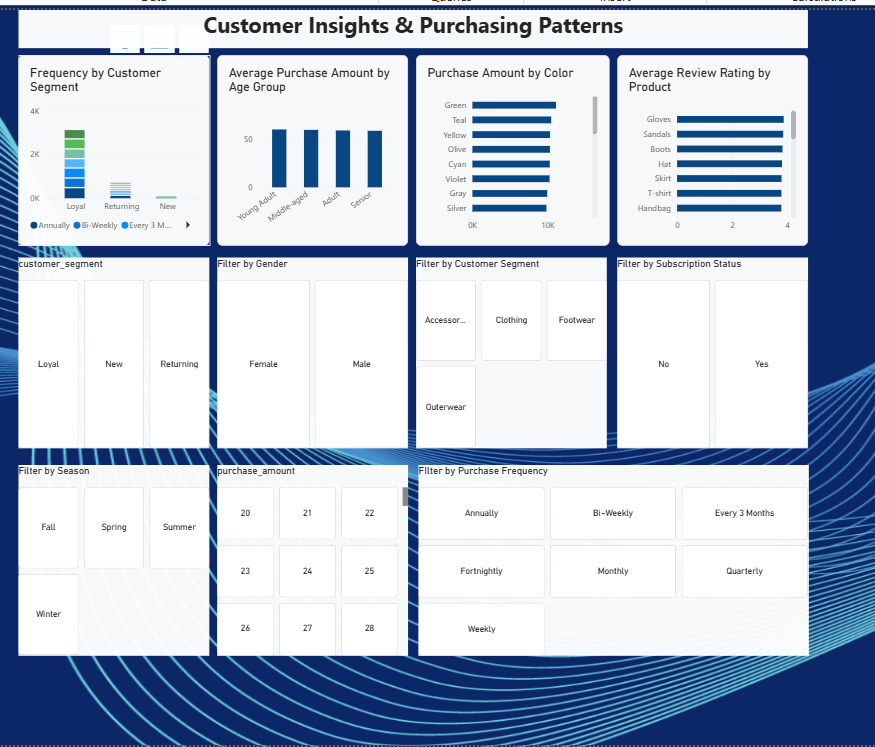

The dashboard page shown, as its layout file describes it:
{"tool":"powerbi","page":{"name":"Customer Insights","canvas":[1920,1080],"ordinal":1},"visuals":[{"type":"columnChart","title":"Frequency by Customer Segment","fields":{"Category":["public customer_shopping.customer_segment"],"Series":["public customer_shopping.frequency_of_purchases"],"Y":["Count(public customer_shopping.customer_id)"]},"box":[33.8,66.2,280,280],"z":0},{"type":"clusteredColumnChart","title":"Average Purchase Amount by Age Group","fields":{"Category":["public customer_shopping.age_group"],"Y":["Avg(public customer_shopping.purchase_amount)"]},"box":[325,66.2,280,280],"z":1000},{"type":"advancedSlicerVisual","title":"Filter by Customer Segment","fields":{"Values":["public customer_shopping.category"]},"box":[616.2,363.8,280,280],"z":2000},{"type":"advancedSlicerVisual","fields":{"Values":["public customer_shopping.customer_segment"]},"box":[33.8,363.8,280,280],"z":3000},{"type":"advancedSlicerVisual","title":"Filter by Season","fields":{"Values":["public customer_shopping.season"]},"box":[33.8,667.5,280,280],"z":4000},{"type":"advancedSlicerVisual","title":"Filter by Gender","fields":{"Values":["public customer_shopping.gender"]},"box":[325,363.8,280,280],"z":5000},{"type":"advancedSlicerVisual","title":"Filter by Subscription Status","fields":{"Values":["public customer_shopping.subscription_status"]},"box":[912.5,363.8,280,280],"z":6000},{"type":"advancedSlicerVisual","title":"FIlter by Purchase Frequency","fields":{"Values":["public customer_shopping.frequency_of_purchases"]},"box":[620,667.5,572.5,280],"z":7000},{"type":"clusteredBarChart","title":"Purchase Amount by Color","fields":{"Category":["public customer_shopping.color"],"Y":["Sum(public customer_shopping.purchase_amount)"]},"box":[616.2,66.2,283.8,280],"z":7001},{"type":"clusteredBarChart","title":"Average Review Rating by Product","fields":{"Category":["public customer_shopping.item_purchased"],"Y":["Avg(public customer_shopping.review_rating)"]},"box":[912.5,66.2,280,280],"z":7002},{"type":"textbox","box":[33.8,0,1158.8,56.2],"z":7003},{"type":"advancedSlicerVisual","fields":{"Values":["public customer_shopping.purchase_amount"]},"box":[325,667.5,280,280],"z":7004}]}

Visuals, with their boxes on the page's 1920x1080 design canvas (x1, y1, x2, y2). These are canvas units, not pixel positions in the 875x747 screenshot, which may show the page scaled, cropped or inside an application window:
"Frequency by Customer Segment" columnChart: <box>34,66,314,346</box>
"Average Purchase Amount by Age Group" clusteredColumnChart: <box>325,66,605,346</box>
"Filter by Customer Segment" advancedSlicerVisual: <box>616,364,896,644</box>
advancedSlicerVisual - public customer_shopping.customer_segment: <box>34,364,314,644</box>
"Filter by Season" advancedSlicerVisual: <box>34,668,314,948</box>
"Filter by Gender" advancedSlicerVisual: <box>325,364,605,644</box>
"Filter by Subscription Status" advancedSlicerVisual: <box>912,364,1192,644</box>
"FIlter by Purchase Frequency" advancedSlicerVisual: <box>620,668,1192,948</box>
"Purchase Amount by Color" clusteredBarChart: <box>616,66,900,346</box>
"Average Review Rating by Product" clusteredBarChart: <box>912,66,1192,346</box>
textbox: <box>34,0,1193,56</box>
advancedSlicerVisual - public customer_shopping.purchase_amount: <box>325,668,605,948</box>
